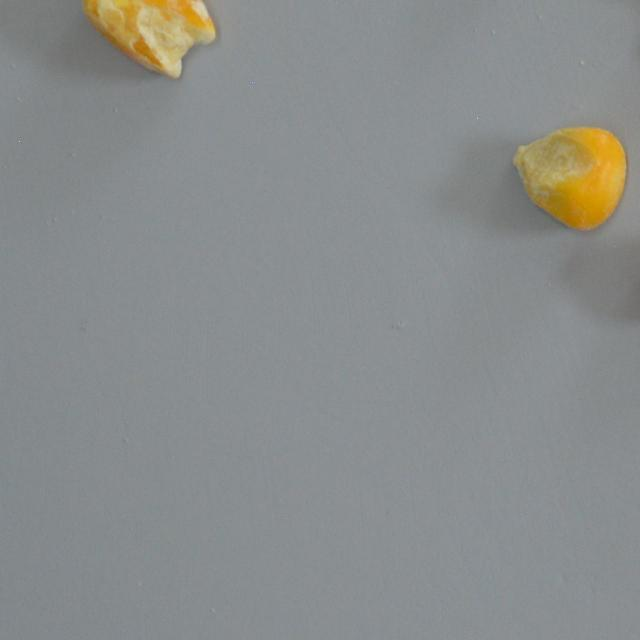entero: (510, 124, 627, 232)
pelicula: (83, 0, 219, 79)
